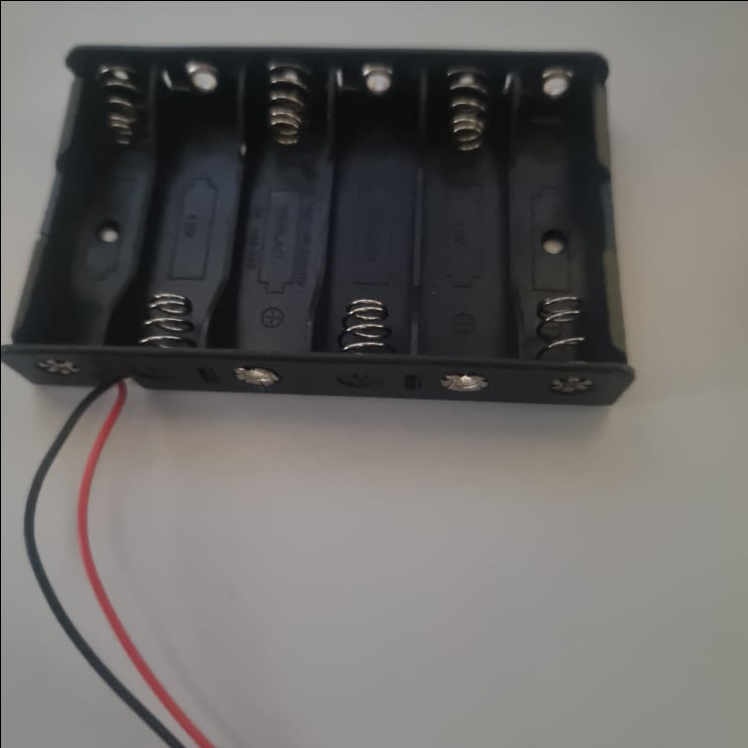BATTERY BOX: (0, 43, 632, 404)
